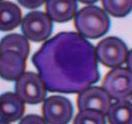M: (33, 31, 96, 93)
